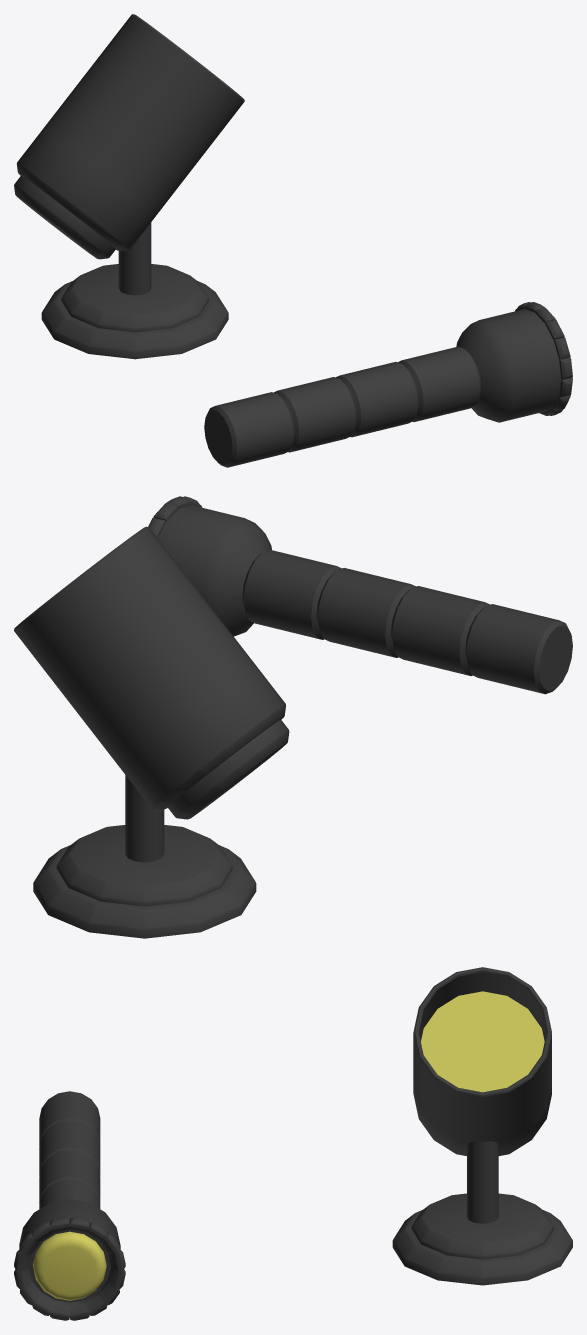
The model's file is lights.fbx.
3 views of the same model, one above another, from view 1: azimuth 30°, elevation 25°; view 2: azimuth 150°, elevation 25°; view 3: azimuth 270°, elevation 25° (orthographic). The views are drawn at different scales.
Parts seen in each view (by area): view 1: spotlight_base, flashlight, spotlight_top; view 2: spotlight_base, flashlight, spotlight_top; view 3: spotlight_base, flashlight, spotlight_top.
Part boxes in pixels (x1=…): spotlight_base: x1=14, y1=14, x2=244, y2=259; flashlight: x1=204, y1=302, x2=572, y2=467; spotlight_top: x1=41, y1=222, x2=228, y2=359; spotlight_base: x1=14, y1=526, x2=289, y2=819; flashlight: x1=148, y1=496, x2=572, y2=694; spotlight_top: x1=33, y1=775, x2=256, y2=938; spotlight_base: x1=413, y1=967, x2=551, y2=1155; flashlight: x1=14, y1=1091, x2=125, y2=1320; spotlight_top: x1=392, y1=1141, x2=572, y2=1285.
Size of the model in its own units: 263 by 226 by 403.
